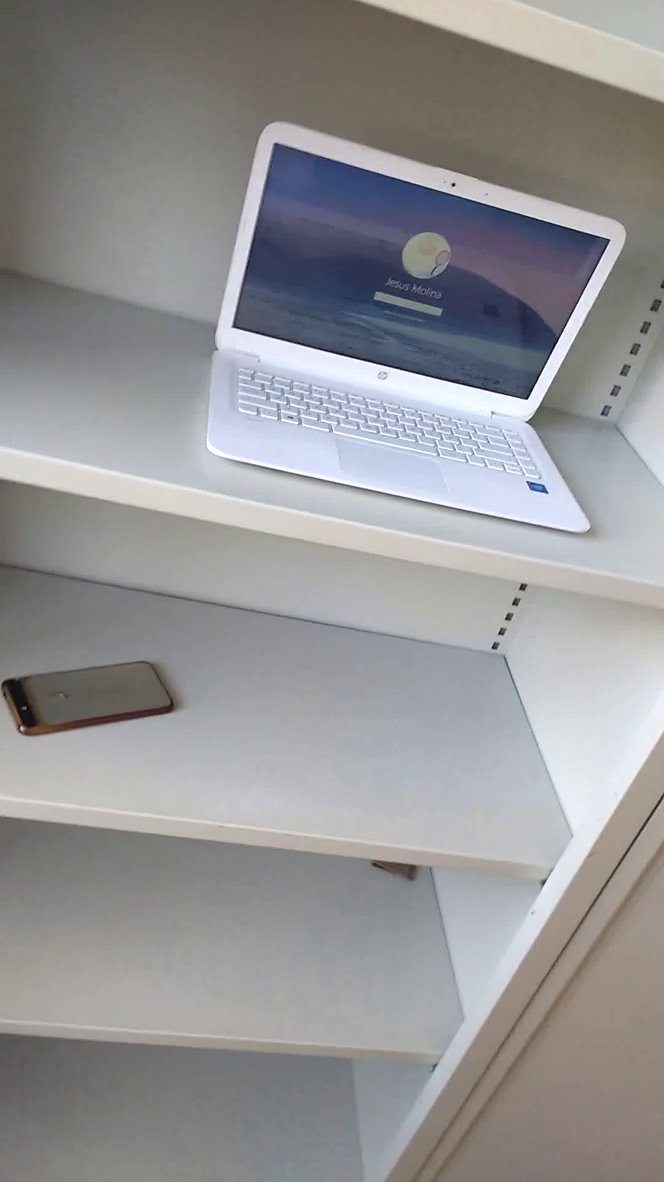laptop: (197, 109, 643, 569)
phone: (1, 653, 187, 744)
